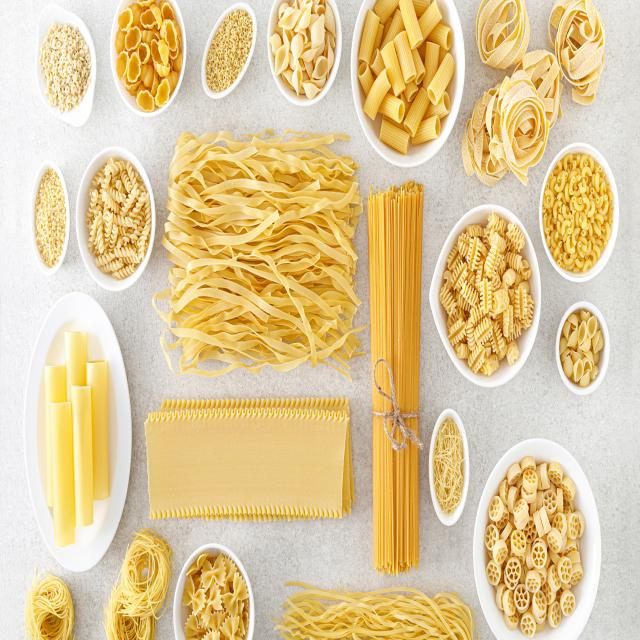pasta: (158, 121, 364, 392), (363, 175, 425, 577), (356, 0, 457, 168)
